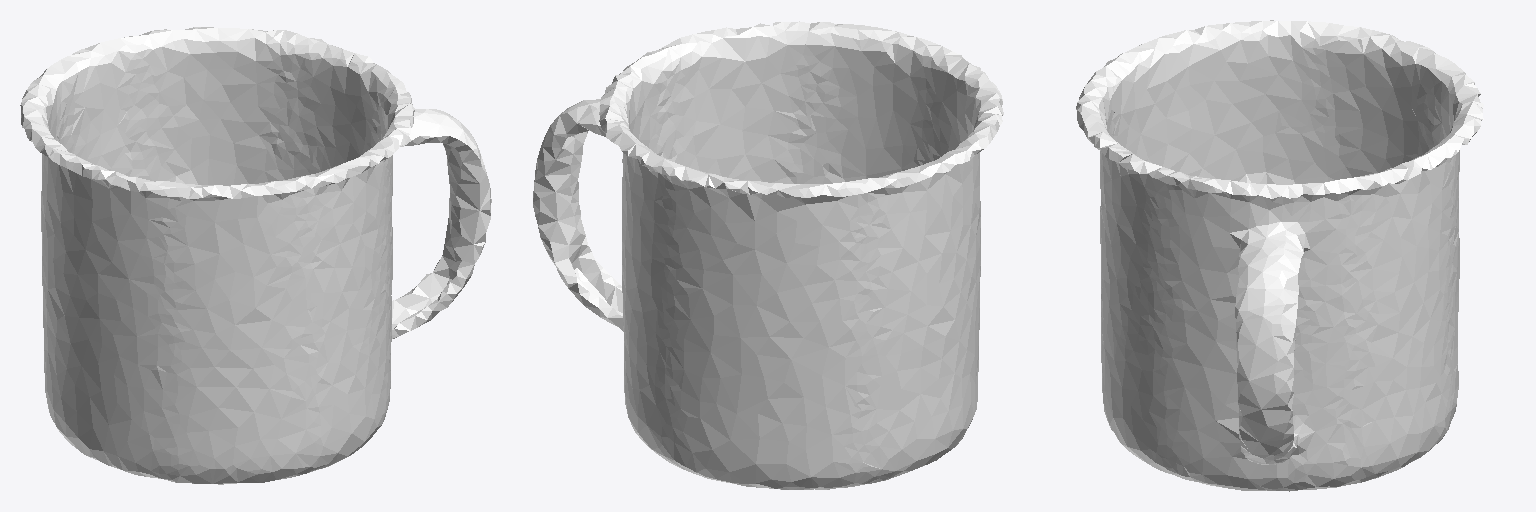
The robot description file, URDF, robot "mug":
<?xml version="1.0" ?>
<robot name="mug">
  <link name="baseLink">
    <contact>
    	<friction_anchor/>
    	   <lateral_friction value="1.0"/>
    </contact>
    <inertial>
      <origin rpy="0 0 0" xyz="0 0 0"/>
       <!-- mass controls penetration -->
       <mass value=".5"/>
       <inertia ixx="1e-4" ixy="0" ixz="0" iyy="1e-4" iyz="0" izz="1e-4"/>
    </inertial>
    <visual>
      <origin rpy="0 0 0" xyz="0 0 0"/>
      <geometry>
        <mesh filename="mug.obj"/>
      </geometry>
       <material name="white">
        <color rgba="1 1 1 1"/>
      </material>
    </visual>
    <collision>
      <origin rpy="0 0 0" xyz="0 0 0"/>
      <geometry>
        <mesh filename="mug.obj"/>
      </geometry>
    </collision>
  </link>
</robot>

--- Facts derived from the render (not from the file) ---
The picture shows the robot from 3 angles, left to right: view 1: azimuth 30°, elevation 25°; view 2: azimuth 150°, elevation 25°; view 3: azimuth 270°, elevation 25°; orthographic projection.
Robot: mug — 1 links, 0 joints (none); root link baseLink; default pose: every joint at zero.
Links seen in each view (by area): view 1: baseLink; view 2: baseLink; view 3: baseLink.
Boxes of the visible links, x1,y1,x2,y2 form: baseLink: (20, 27, 491, 484); baseLink: (533, 21, 1003, 489); baseLink: (1076, 20, 1483, 491).
Size in the robot's own frame: 0.1169 by 0.0928 by 0.0815 metres.
Meshes: 1 distinct files referenced, 1 mesh visuals loaded (1 OBJ).